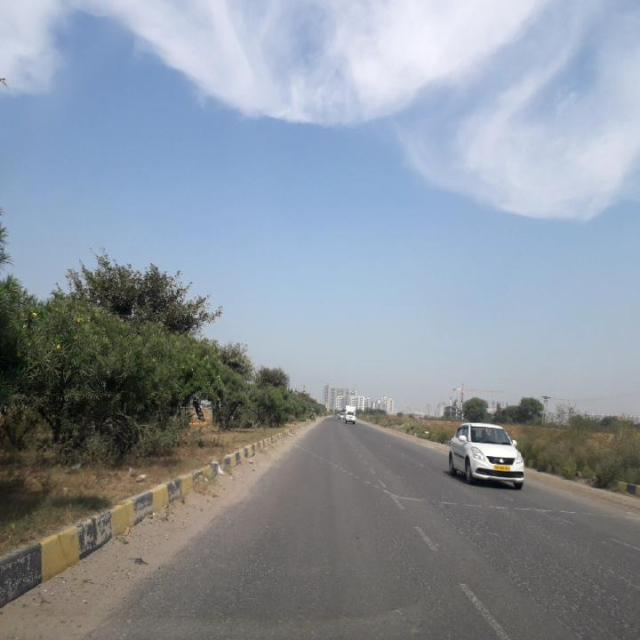D20: (431, 499, 639, 638)
